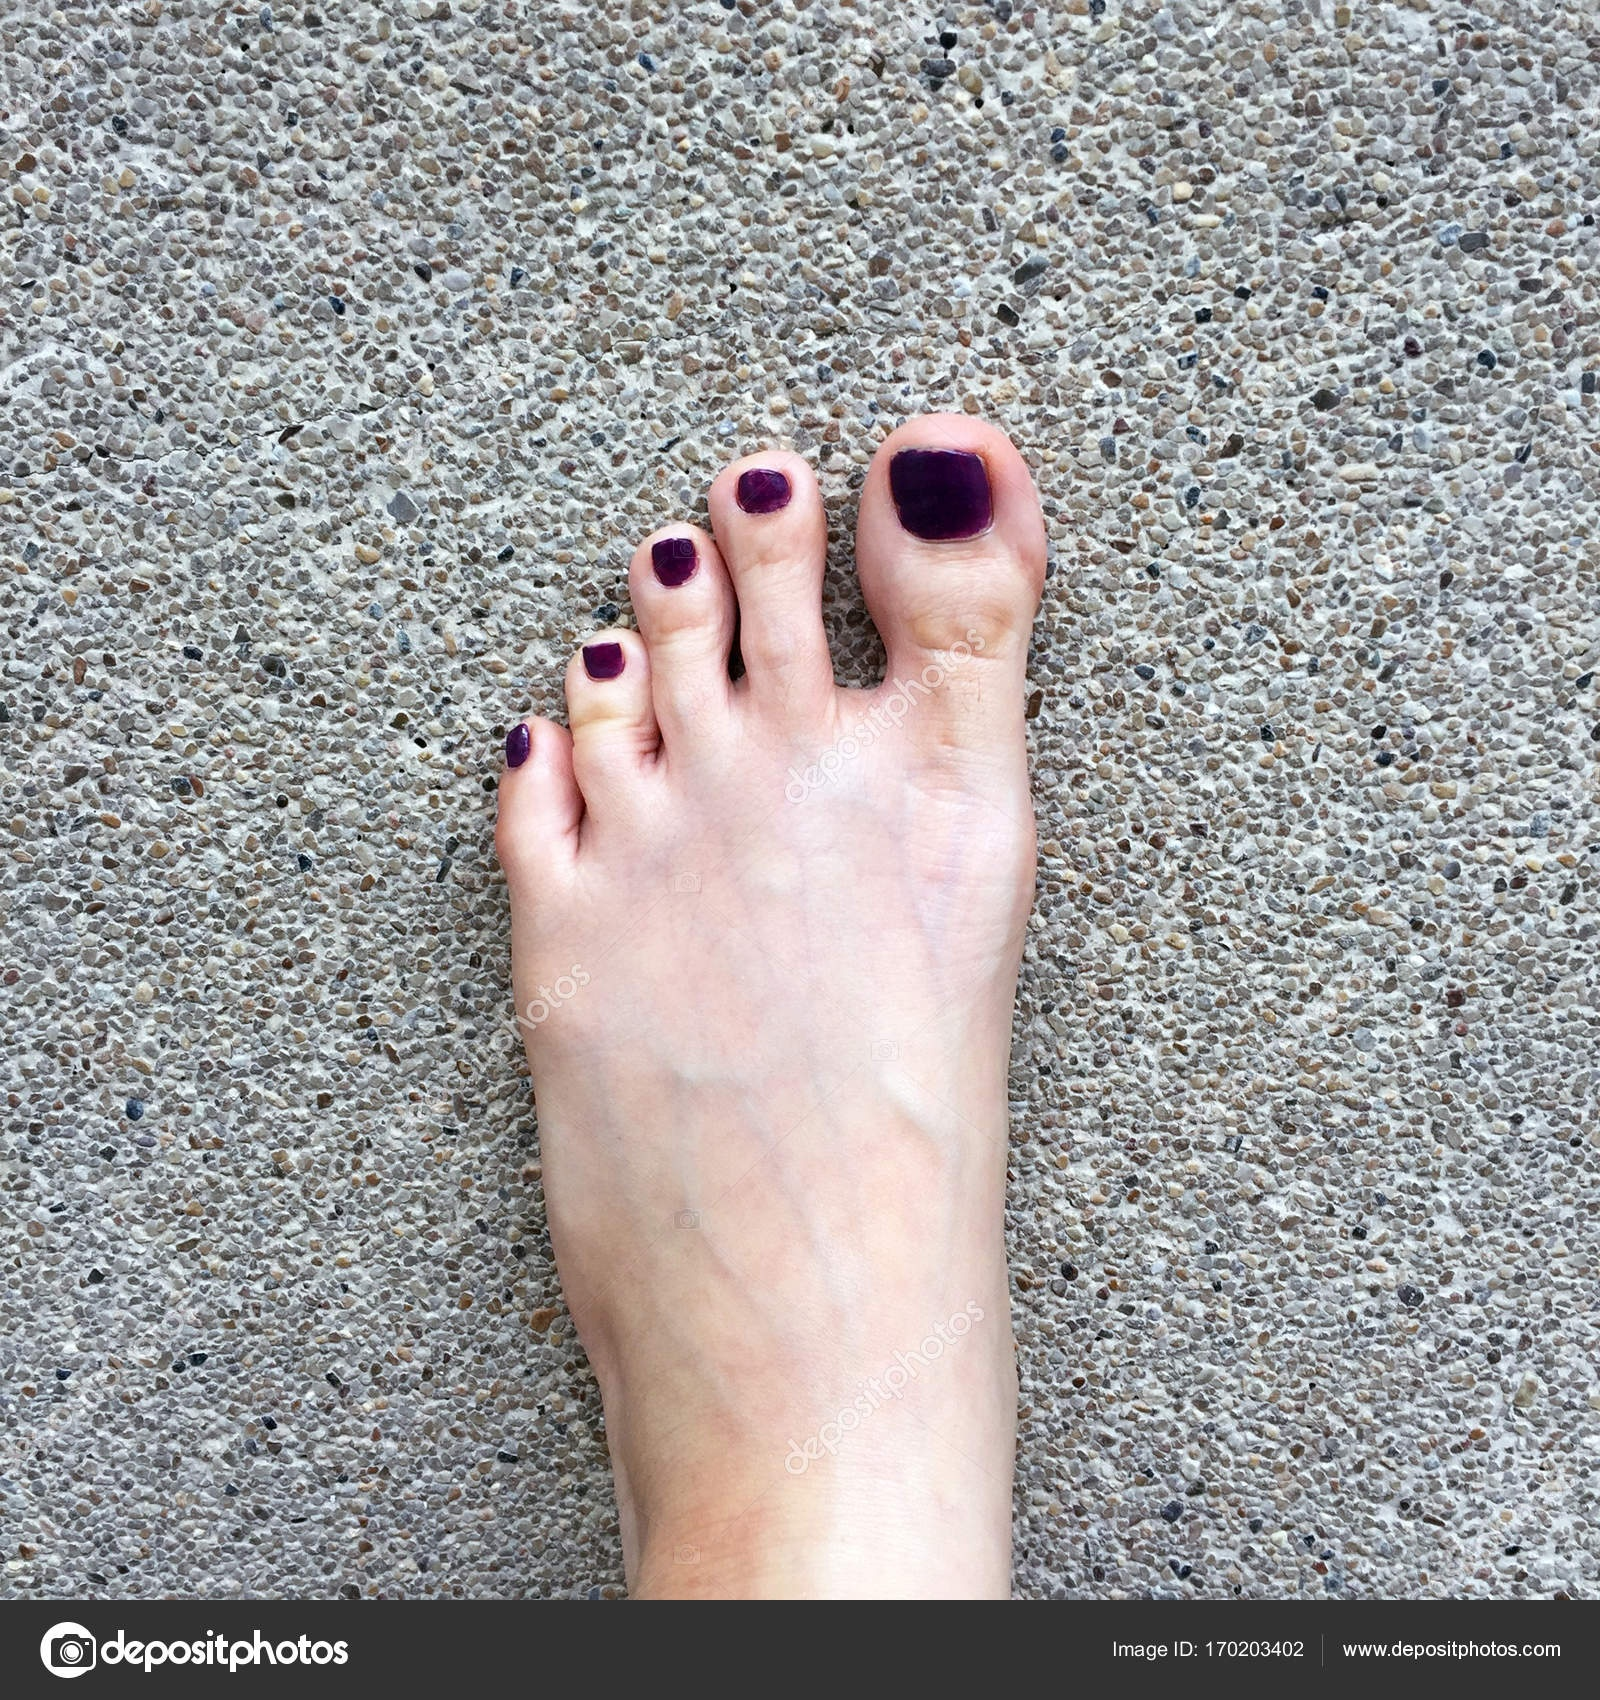feet: (376, 392, 1062, 1596)
